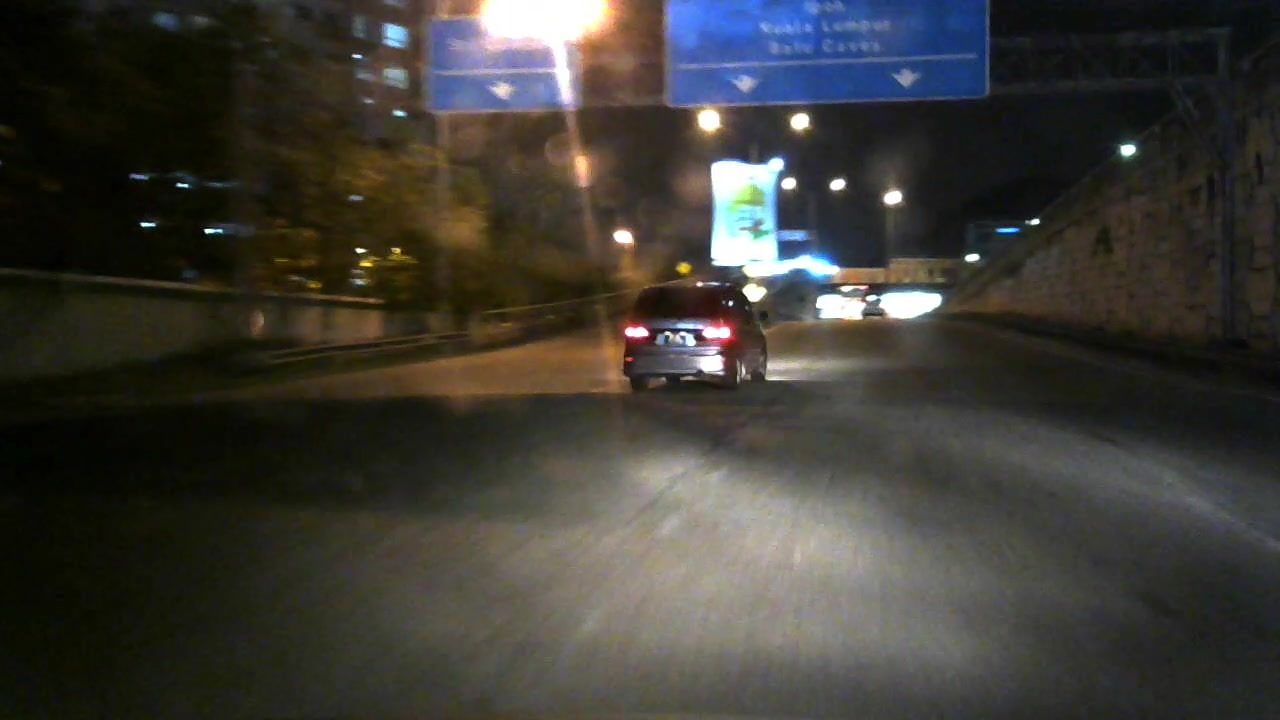Car: (619, 271, 777, 396), (856, 282, 902, 330)
